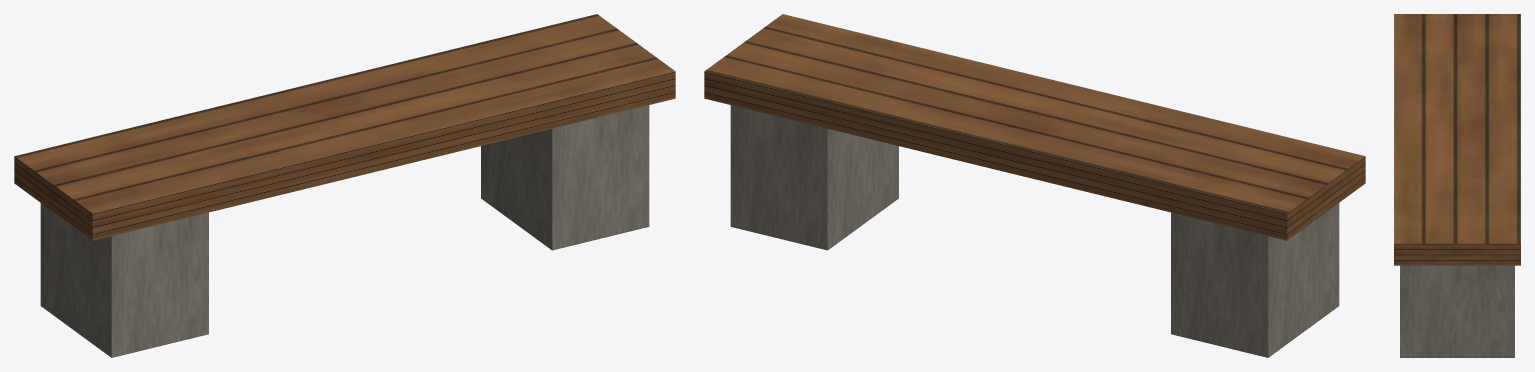
Rendered from bench.glb.
The picture shows the model from 3 angles, left to right: view 1: azimuth 30°, elevation 25°; view 2: azimuth 150°, elevation 25°; view 3: azimuth 270°, elevation 25°; orthographic projection. The views are drawn at different scales.
Visible parts, largest first — view 1: town_bench; view 2: town_bench; view 3: town_bench.
Boxes of the visible parts, box(x1,y1,x2,y2) form: town_bench: box(14, 14, 675, 357); town_bench: box(704, 14, 1365, 357); town_bench: box(1394, 14, 1520, 357).
Bounding box in the file's own units: 1.8 × 0.45 × 0.42.
Materials: 1 (1 with a texture image).
